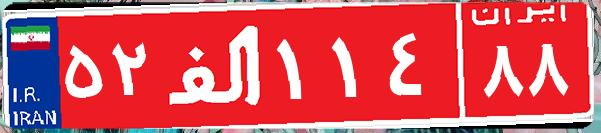1: (273, 28, 330, 110), (330, 28, 385, 110)
2: (110, 28, 158, 105)
4: (385, 28, 445, 110)
5: (57, 26, 110, 107)
8: (475, 38, 525, 113), (525, 38, 570, 115)
الف: (158, 15, 273, 115)
